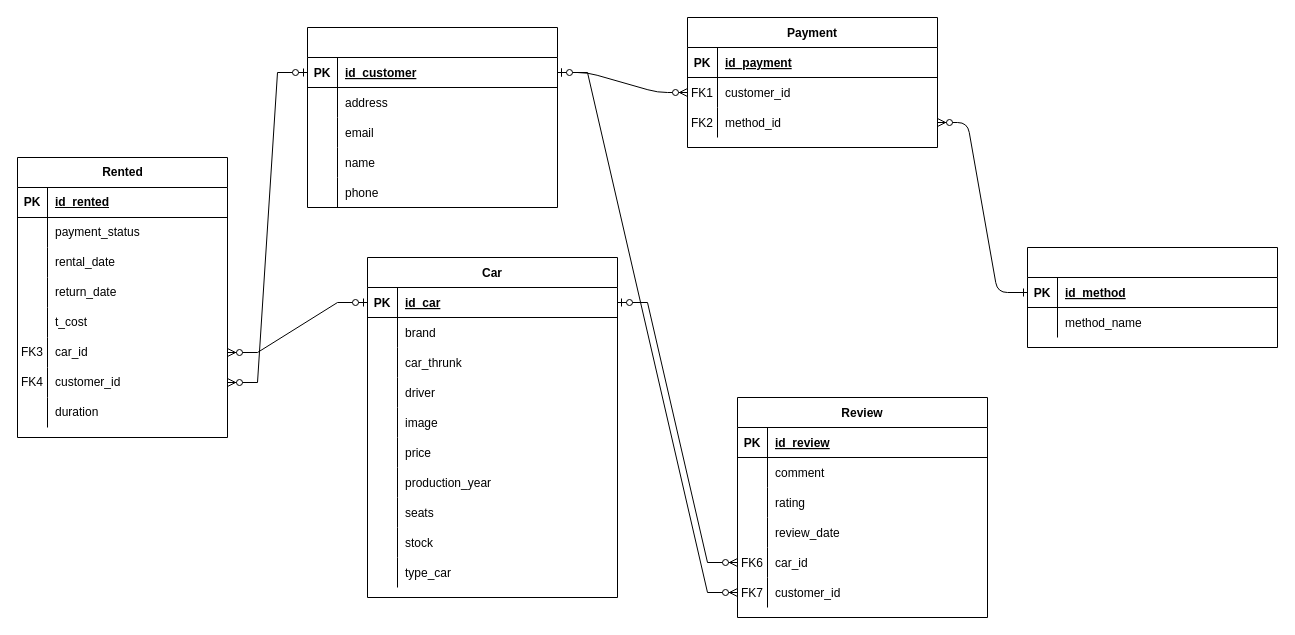
Some shapes in this 1295 by 635 pixel diagram are drawn without their labels. The shapes that lost their labels are listed below. From the top down, each one's box as (x1, y1, x2, y2) in pixels, then its label:
(306, 26, 558, 208): Customers
(1026, 246, 1278, 348): Payment_Method
